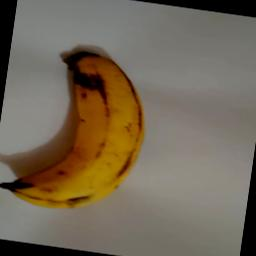Banana Unripe: (0, 38, 156, 227)
